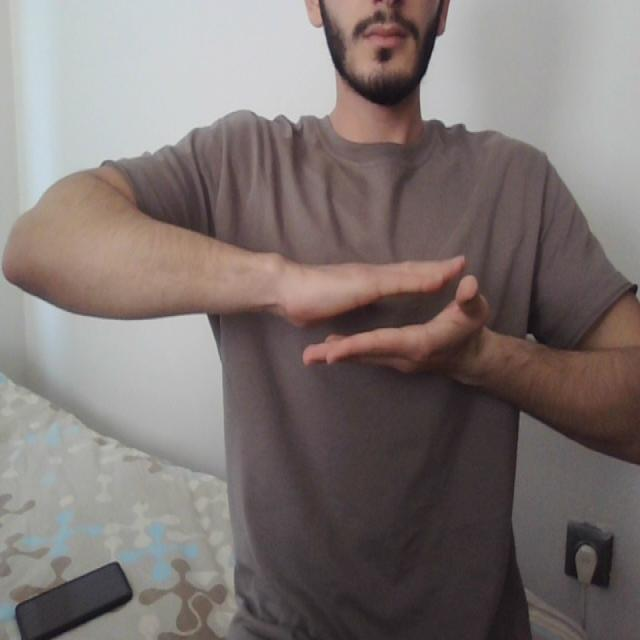Arkadas: (203, 228, 554, 429)
